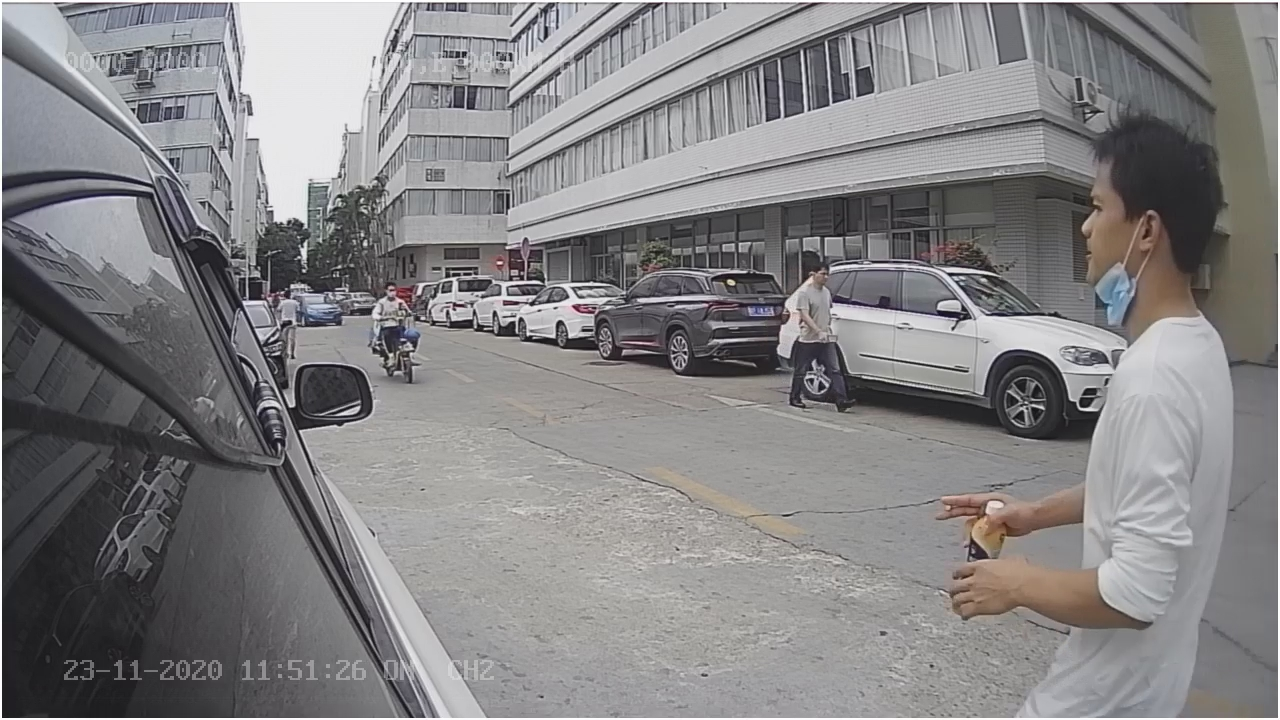person: (778, 258, 854, 420)
